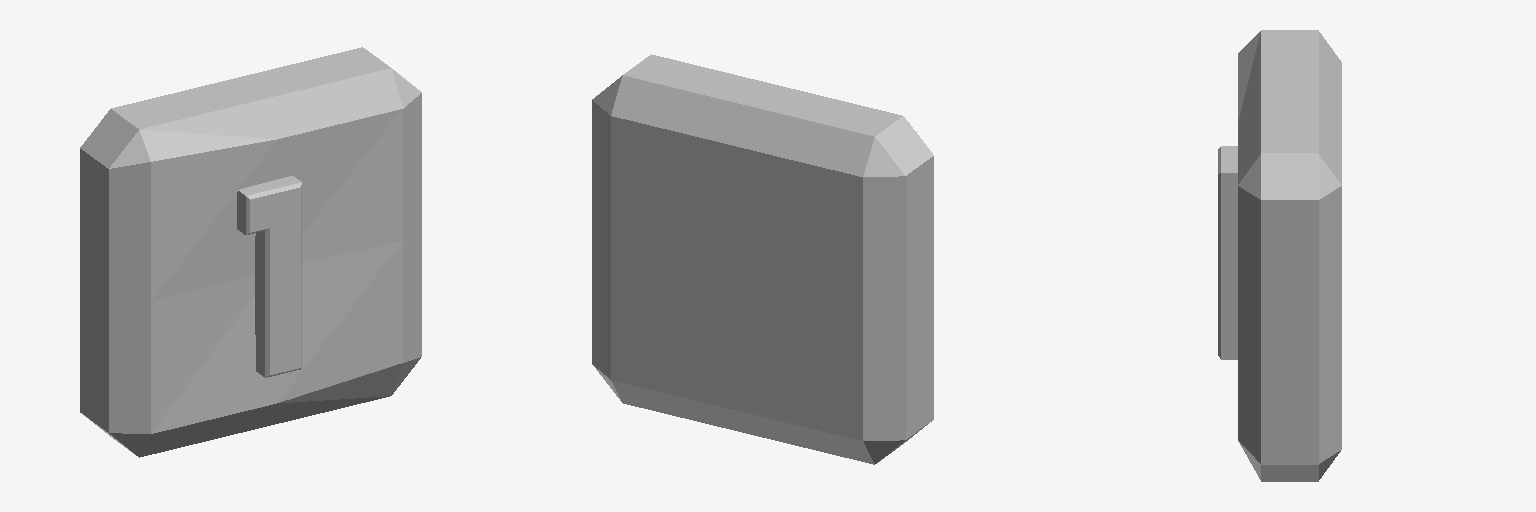
The model's file is lvl-1.obj.
3 views of the same model, side by side, from view 1: azimuth 30°, elevation 25°; view 2: azimuth 150°, elevation 25°; view 3: azimuth 270°, elevation 25° (orthographic).
Parts seen in each view (by area): view 1: lvl-1_Cube.010; view 2: lvl-1_Cube.010; view 3: lvl-1_Cube.010.
Part boxes in pixels (x1,y1,x2,y2): lvl-1_Cube.010: (80,47,421,457); lvl-1_Cube.010: (592,54,933,464); lvl-1_Cube.010: (1218,30,1341,481).
Size of the model in its own units: 1.28 by 1.28 by 0.4393.